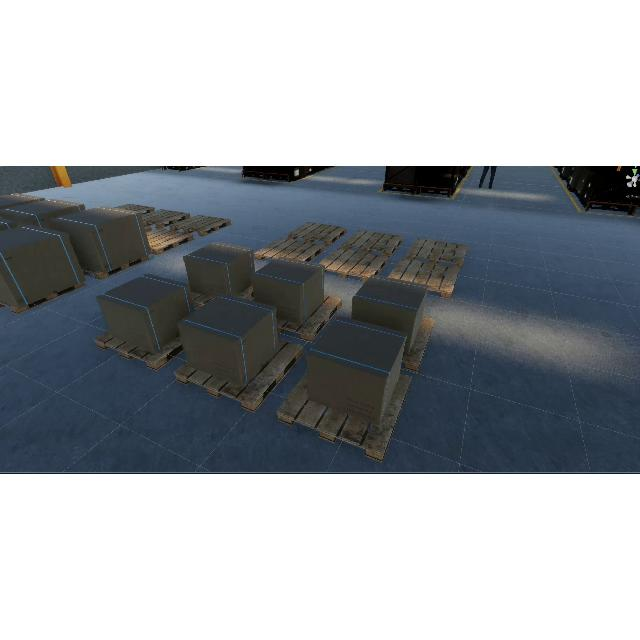wooden_pallet: (277, 370, 413, 463), (172, 338, 305, 413), (92, 328, 184, 373), (277, 293, 342, 343), (1, 280, 86, 315), (387, 258, 459, 299), (318, 248, 388, 282), (406, 237, 469, 269), (403, 316, 436, 373), (81, 254, 150, 280), (255, 237, 325, 262), (342, 229, 404, 257), (146, 227, 195, 256), (170, 214, 231, 237), (287, 222, 348, 245), (141, 210, 190, 228), (115, 203, 156, 215), (143, 225, 152, 232)
